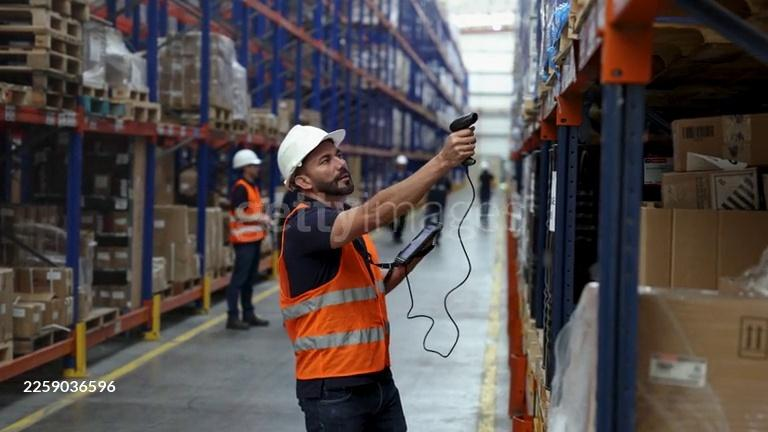helmet: (276, 125, 347, 186), (232, 149, 262, 168)
person: (273, 122, 479, 432), (223, 148, 273, 330), (391, 152, 417, 245), (425, 167, 452, 250), (476, 169, 494, 225)
